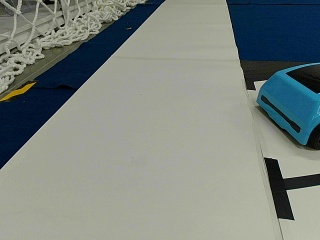car: (257, 60, 318, 150)
